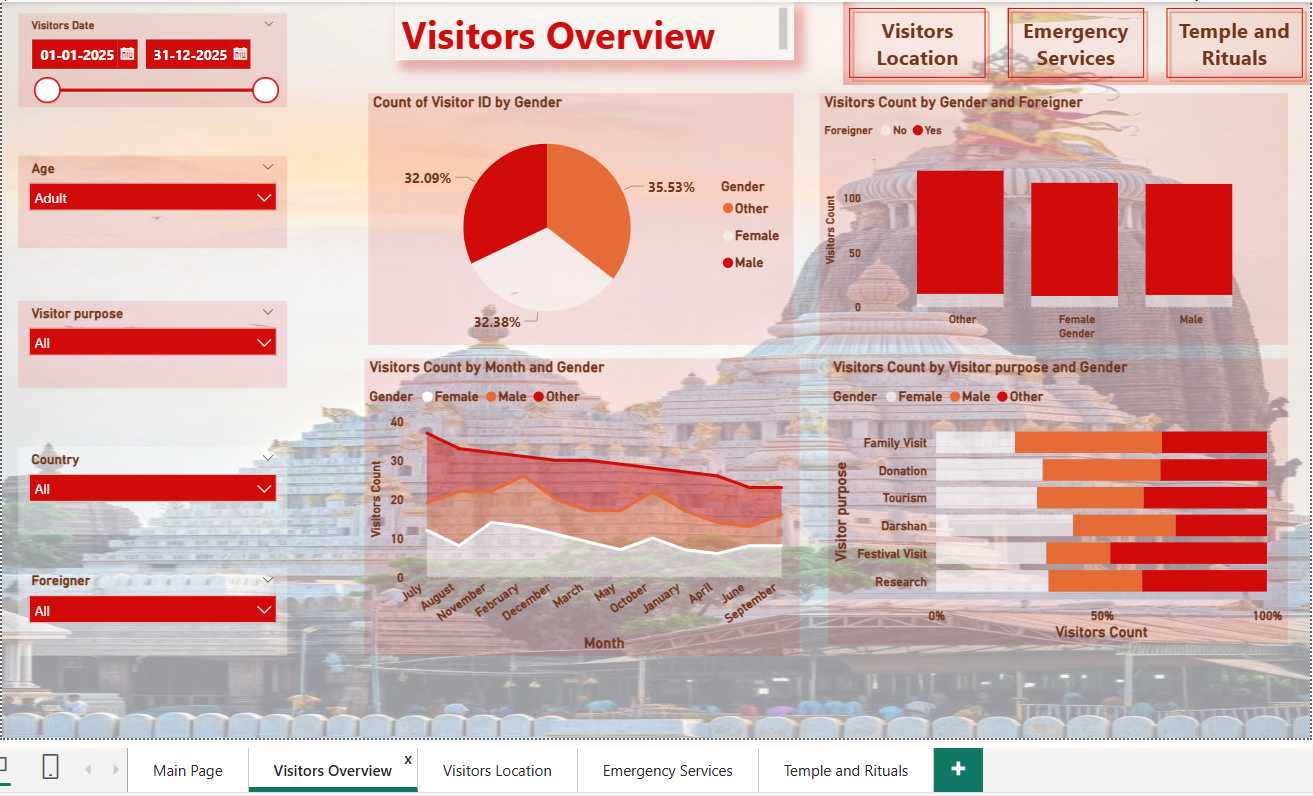

The page's visual inventory and layout, read from the dashboard file:
{"tool":"powerbi","page":{"name":"Visitors Overview","canvas":[1280,720],"ordinal":1},"visuals":[{"type":"slicer","fields":{"Values":["Sheet.Date"]},"box":[15.7,10.9,263,91.7],"z":0},{"type":"slicer","fields":{"Values":["Sheet.Visitor purpose"]},"box":[15.7,292,263,85.7],"z":1000},{"type":"slicer","fields":{"Values":["Sheet.Age group (Student, Adult, Senior Citizen)"]},"box":[15.7,150.8,263,90.5],"z":2000},{"type":"slicer","fields":{"Values":["Sheet.Country"]},"box":[15.7,435.5,263,85.7],"z":3000},{"type":"slicer","fields":{"Values":["Sheet.Foreigner"]},"box":[15.7,553.8,263,85.7],"z":4000},{"type":"pieChart","fields":{"Y":["CountNonNull(Sheet.Visitor ID)"],"Category":["Sheet.Gender"]},"box":[358.3,89.3,416.2,246.1],"z":5000},{"type":"stackedAreaChart","fields":{"Category":["Sheet.Month"],"Y":["Sheet.Visitors Count"],"Series":["Sheet.Gender"]},"box":[354.3,348.1,425.9,291.4],"z":6000},{"type":"hundredPercentStackedBarChart","fields":{"Category":["Sheet.Visitor purpose"],"Y":["Sheet.Visitors Count"],"Series":["Sheet.Gender"]},"box":[808.6,348.1,449.4,280.2],"z":7000},{"type":"columnChart","fields":{"Category":["Sheet.Gender"],"Series":["Sheet.Foreigner"],"Y":["Sheet.Visitors Count"]},"box":[799.9,89.3,458.4,246.1],"z":8000},{"type":"textbox","box":[384.9,0,389.7,56.7],"z":9000},{"type":"pageNavigator","box":[822.8,0,457.2,80.8],"z":10000}]}

Visuals, with their boxes on the page's 1280x720 design canvas (x1, y1, x2, y2). These are canvas units, not pixel positions in the 1313x796 screenshot, which may show the page scaled, cropped or inside an application window:
slicer - Sheet.Date: x1=16, y1=11, x2=279, y2=103
slicer - Sheet.Visitor purpose: x1=16, y1=292, x2=279, y2=378
slicer - Sheet.Age group (Student, Adult, Senior Citizen): x1=16, y1=151, x2=279, y2=241
slicer - Sheet.Country: x1=16, y1=436, x2=279, y2=521
slicer - Sheet.Foreigner: x1=16, y1=554, x2=279, y2=640
pieChart - CountNonNull(Sheet.Visitor ID) x Sheet.Gender: x1=358, y1=89, x2=774, y2=335
stackedAreaChart - Sheet.Month x Sheet.Visitors Count: x1=354, y1=348, x2=780, y2=640
hundredPercentStackedBarChart - Sheet.Visitor purpose x Sheet.Visitors Count: x1=809, y1=348, x2=1258, y2=628
columnChart - Sheet.Gender x Sheet.Foreigner: x1=800, y1=89, x2=1258, y2=335
textbox: x1=385, y1=0, x2=775, y2=57
pageNavigator: x1=823, y1=0, x2=1280, y2=81
